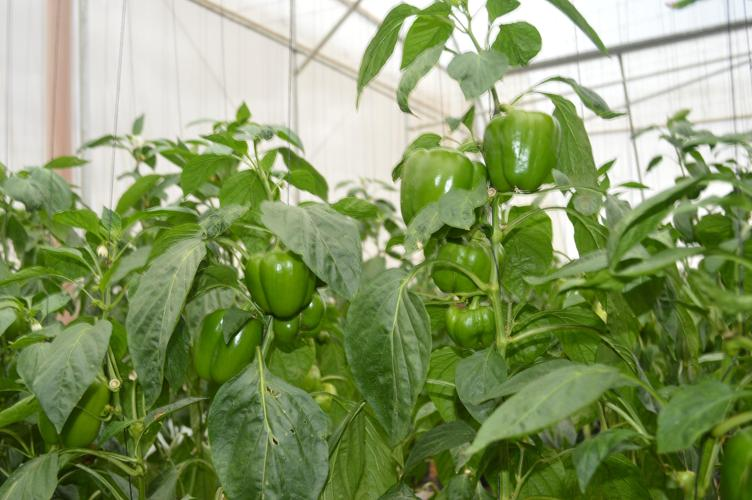BellPepper: (389, 139, 487, 233), (483, 106, 560, 194), (187, 313, 264, 388), (241, 249, 328, 308), (424, 298, 509, 356), (420, 241, 500, 289), (268, 307, 328, 344)
